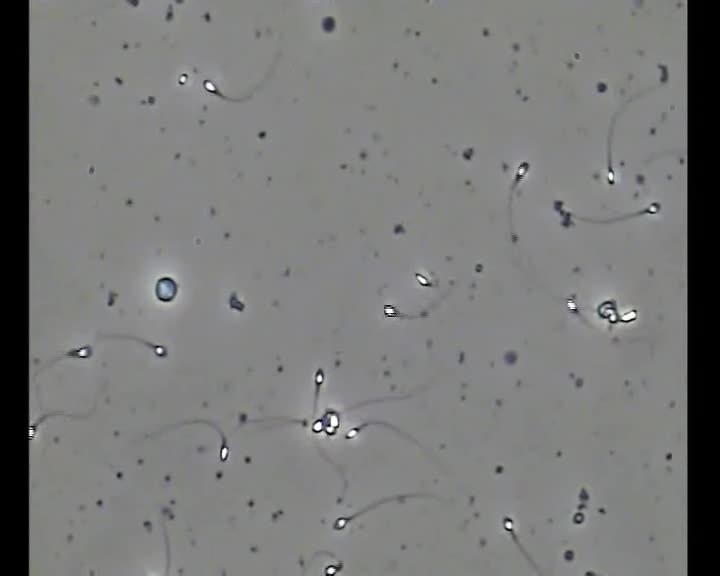spermhead: (155, 276, 178, 303), (596, 299, 617, 322), (322, 409, 340, 435), (67, 345, 92, 358), (514, 161, 529, 180), (324, 561, 343, 575), (218, 440, 230, 462), (415, 271, 432, 286), (619, 308, 637, 322), (333, 516, 349, 530), (383, 303, 398, 317), (567, 294, 578, 313), (314, 369, 325, 387), (203, 79, 217, 93), (502, 517, 514, 533), (152, 344, 167, 356), (606, 167, 616, 185), (645, 202, 660, 214), (311, 418, 323, 433), (345, 427, 359, 439), (177, 72, 188, 85), (28, 425, 36, 439)
